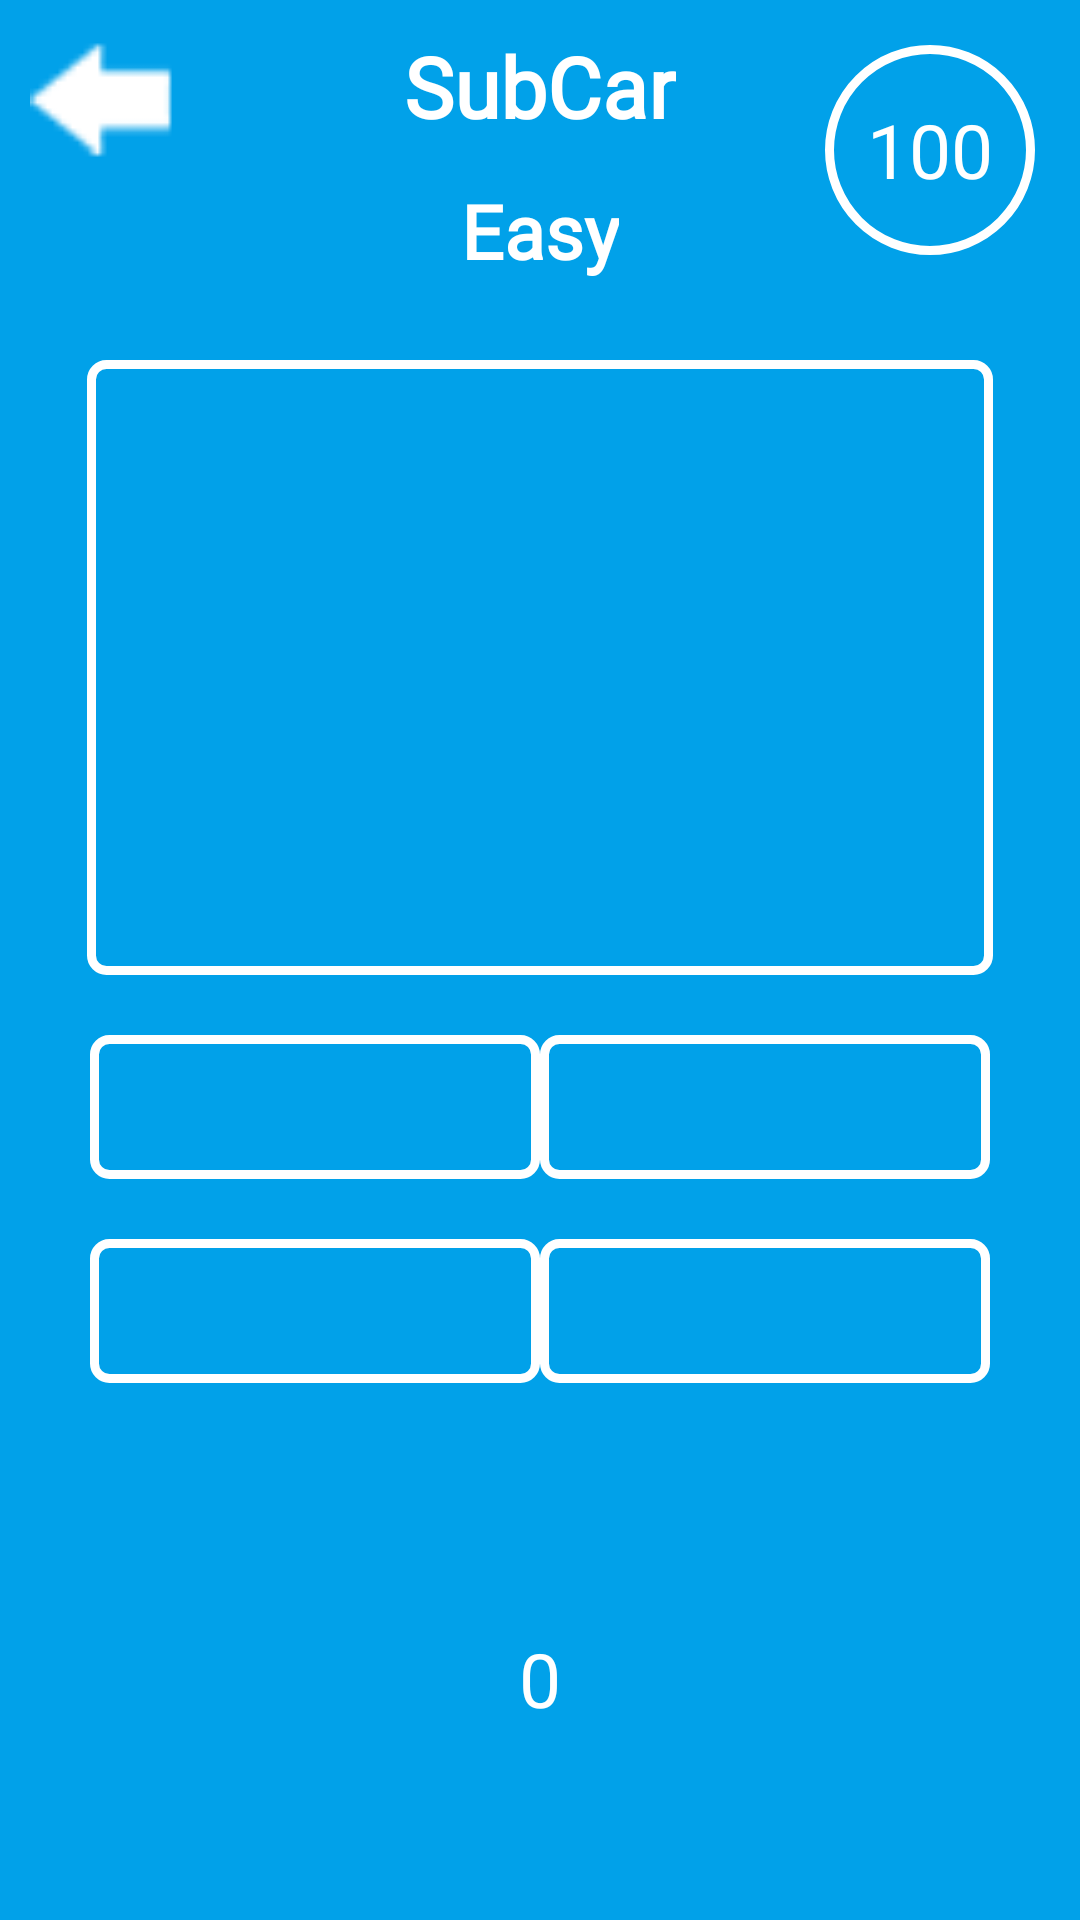

Icons on this 1080 x 1920 Android screen, each with the point to tap as [x,y]:
arrow ar: [101,100]
